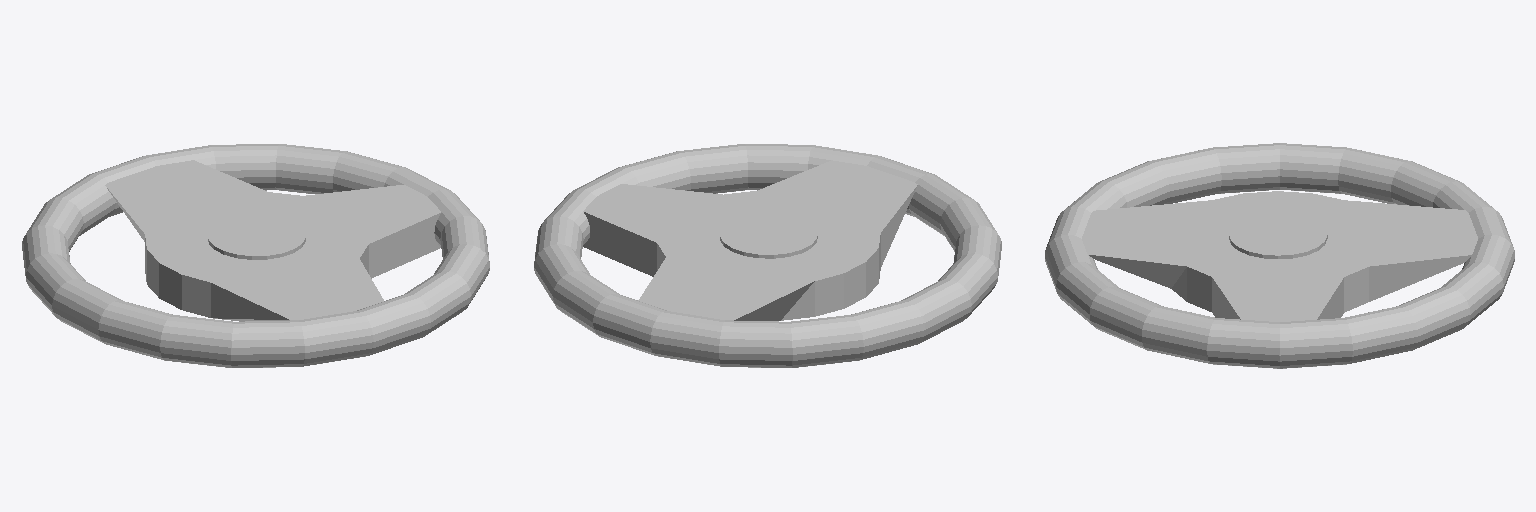
Rendered from handle.obj.
The picture shows the model from 3 angles: view 1: azimuth 30°, elevation 25°; view 2: azimuth 150°, elevation 25°; view 3: azimuth 270°, elevation 25°; orthographic projection.
Bounding box in the file's own units: 442 × 44.23 × 442.